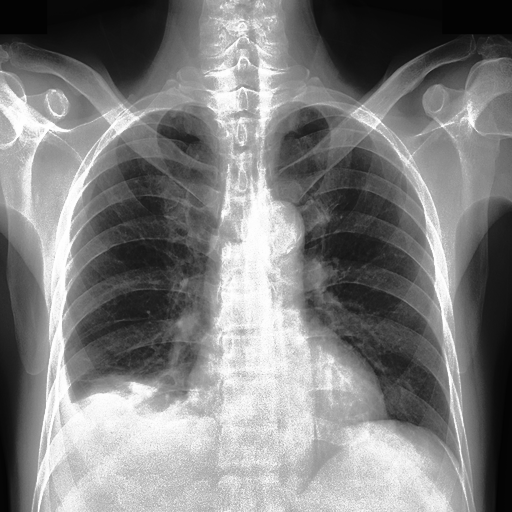Calcification: (46, 350, 79, 446)
Consolidation: (247, 197, 307, 269)
ILD: (76, 372, 183, 414)
Nodule/Mass: (188, 355, 389, 434)
Pleural effusion: (47, 356, 195, 452), (34, 327, 101, 474)
Pleural thickening: (82, 370, 179, 415)
Pneumothorax: (76, 372, 183, 414)
